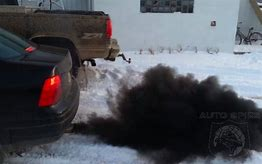smoke: (76, 64, 262, 164)
